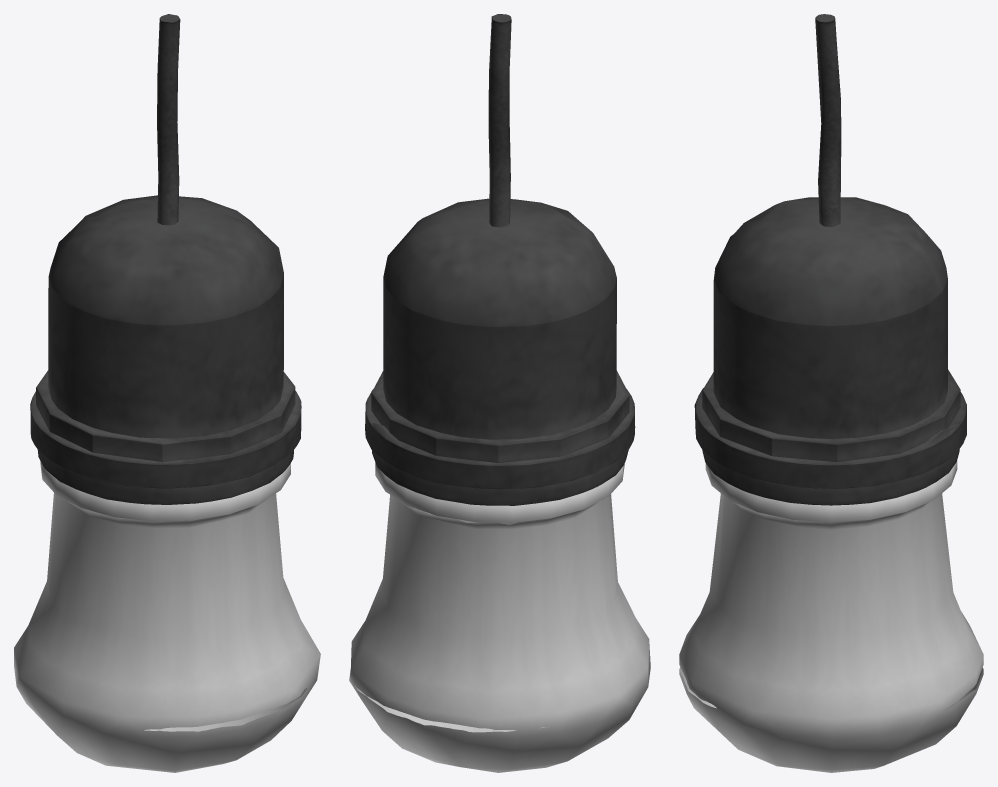
Rendered from SM_hanginglight_01c.fbx.
The picture shows the model from 3 angles, left to right: view 1: azimuth 30°, elevation 25°; view 2: azimuth 150°, elevation 25°; view 3: azimuth 270°, elevation 25°; orthographic projection.
Parts seen in each view (by area): view 1: SM_hanginglight_01c_LOD0; view 2: SM_hanginglight_01c_LOD0; view 3: SM_hanginglight_01c_LOD0.
Boxes of the visible parts, x1,y1,x2,y2 form: SM_hanginglight_01c_LOD0: [14, 14, 320, 772]; SM_hanginglight_01c_LOD0: [349, 14, 650, 772]; SM_hanginglight_01c_LOD0: [679, 14, 983, 772].
Bounding box in the file's own units: 11.08 × 11.05 × 29.29.
